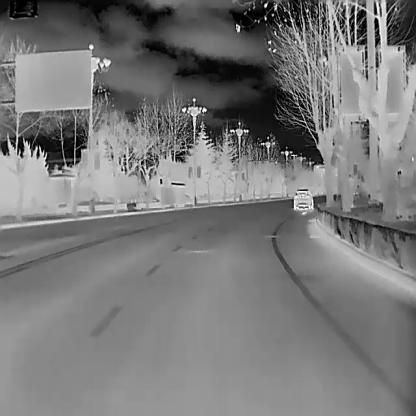car: (293, 187, 313, 210)
